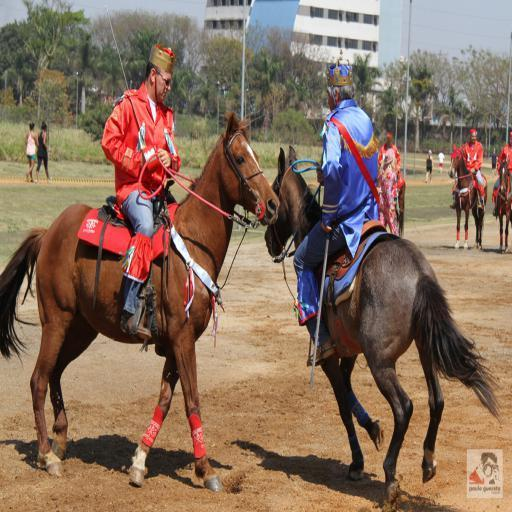horse: (0, 121, 275, 493), (262, 141, 504, 505), (446, 141, 490, 253), (496, 152, 512, 254), (396, 178, 406, 234)
